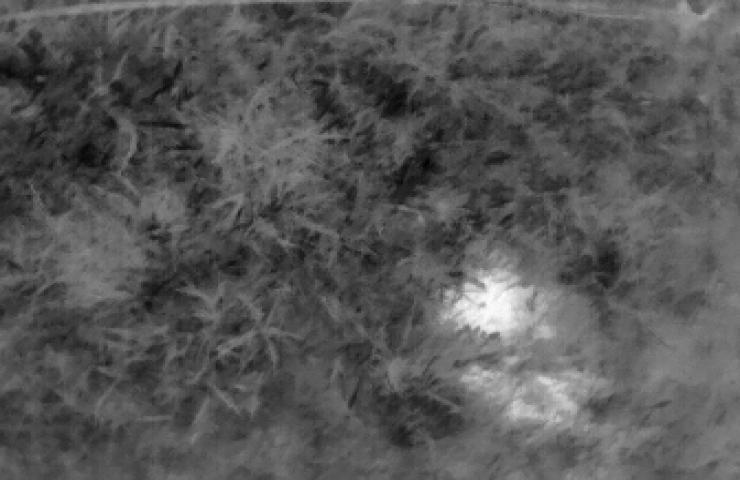landmines: (445, 267, 535, 338)
